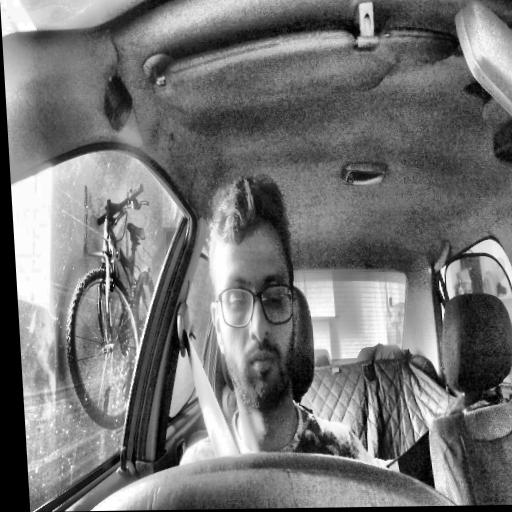drowsy: (201, 175, 305, 415)
